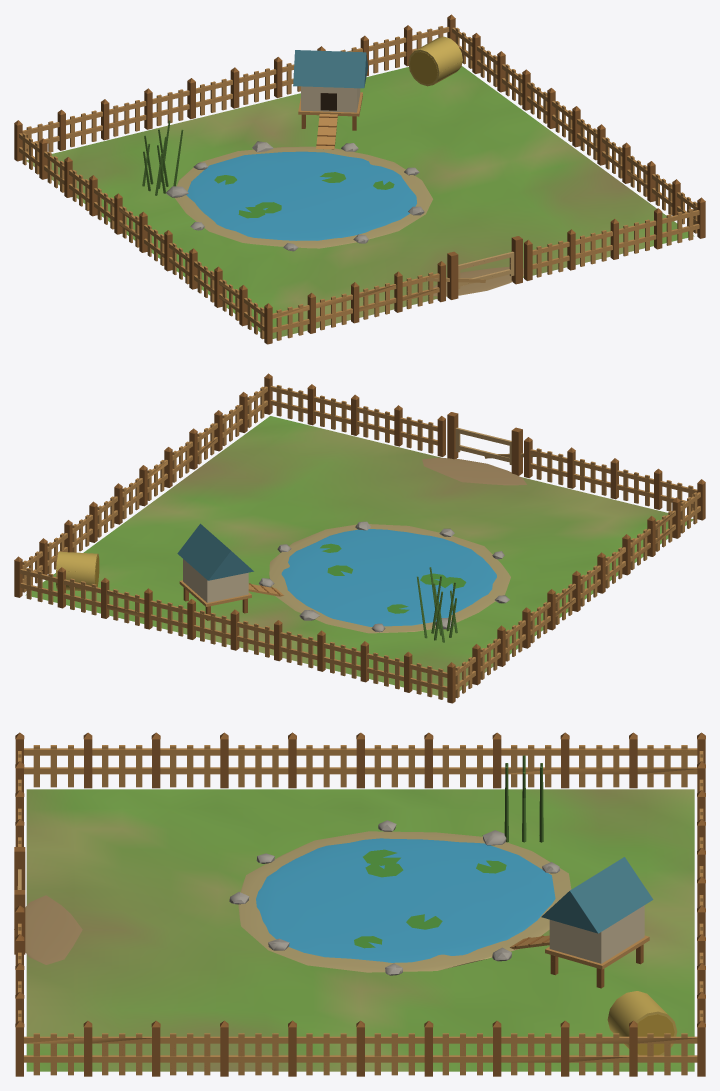
The model's file is duck_pond-g1.glb.
3 views of the same model, one above another, from view 1: azimuth 30°, elevation 25°; view 2: azimuth 150°, elevation 25°; view 3: azimuth 270°, elevation 25° (orthographic). The views are drawn at different scales.
Visible parts, largest first — view 1: home-duck_pond-g1, home-duck_pond-g1-far; view 2: home-duck_pond-g1, home-duck_pond-g1-far; view 3: home-duck_pond-g1, home-duck_pond-g1-far.
Part boxes in pixels (bbox=[...]): home-duck_pond-g1: bbox=[14, 14, 705, 340]; home-duck_pond-g1-far: bbox=[14, 28, 705, 344]; home-duck_pond-g1: bbox=[14, 373, 705, 699]; home-duck_pond-g1-far: bbox=[14, 387, 705, 703]; home-duck_pond-g1: bbox=[14, 732, 705, 1075]; home-duck_pond-g1-far: bbox=[14, 753, 705, 1076].
Size of the model in its own units: 9.93 by 1.59 by 9.95.
